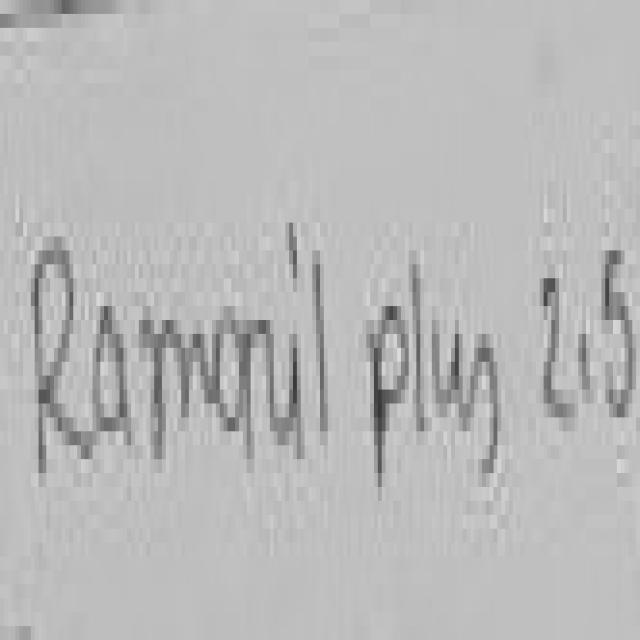2: (544, 278, 574, 417)
5: (605, 250, 636, 417)
R: (35, 250, 93, 466)
a: (93, 306, 131, 445)
i: (274, 348, 305, 459), (289, 223, 301, 278)
l: (316, 250, 332, 445), (413, 264, 428, 431)
m: (143, 320, 216, 452)
o: (215, 304, 247, 440)
p: (370, 306, 409, 487)
r: (239, 320, 278, 452)
s: (463, 334, 501, 466)
u: (436, 320, 470, 431)
